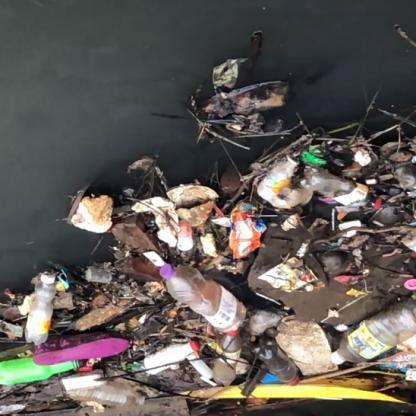Plastic: (156, 258, 252, 336), (328, 297, 415, 367), (22, 267, 60, 349), (255, 155, 300, 199)
